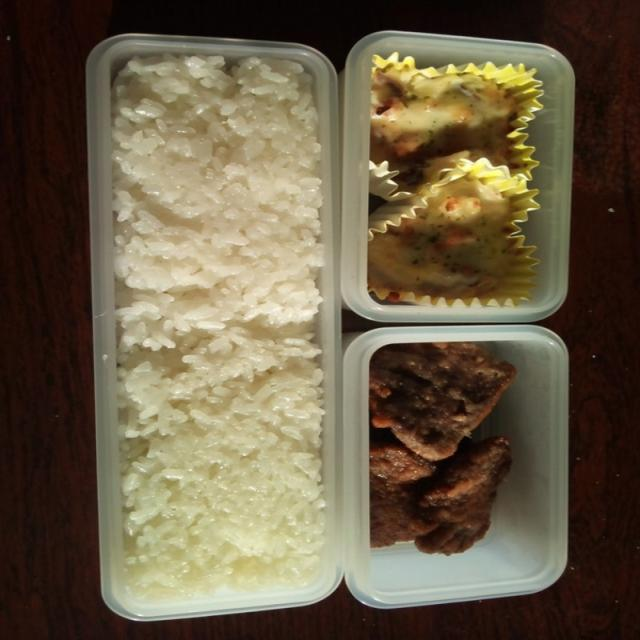Rice: (110, 49, 328, 596)
